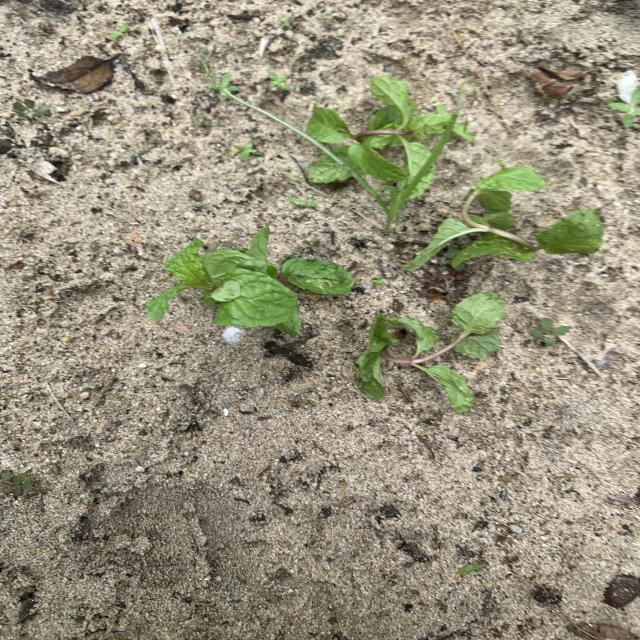crop: (147, 224, 353, 332), (307, 75, 472, 201), (405, 161, 601, 267), (356, 293, 504, 399), (309, 155, 350, 184), (408, 159, 434, 199)
weed: (241, 100, 454, 230), (606, 88, 639, 127), (0, 472, 47, 495), (532, 318, 570, 343), (211, 73, 239, 99), (13, 99, 48, 119), (232, 141, 263, 161), (268, 71, 290, 92), (287, 197, 317, 207), (108, 24, 128, 39), (193, 114, 211, 127), (371, 278, 383, 285), (308, 237, 318, 245)
